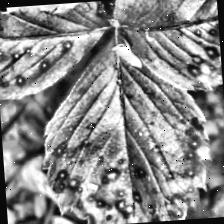Leaf Spot: (32, 23, 216, 224), (0, 0, 115, 102), (112, 0, 223, 97)
